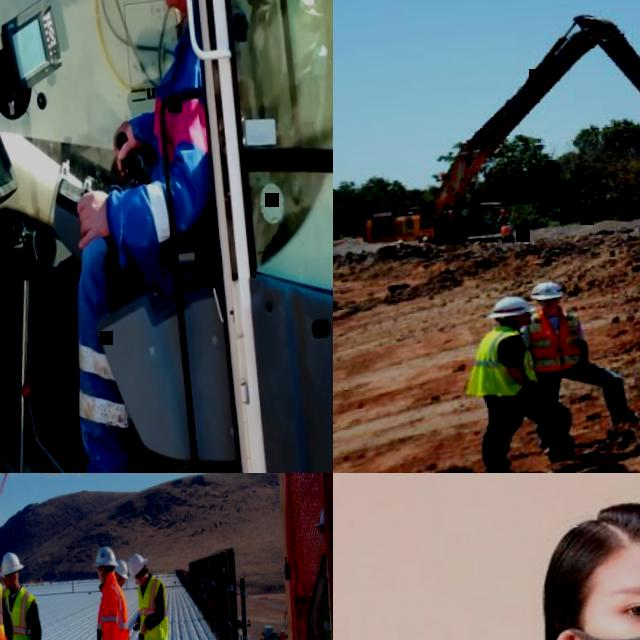helmet: (488, 292, 538, 318), (94, 542, 120, 570), (0, 548, 25, 577), (125, 550, 149, 578), (532, 280, 565, 300), (316, 495, 333, 531), (114, 556, 130, 582), (504, 203, 509, 206), (507, 220, 513, 222)
machinery: (0, 0, 333, 473), (356, 0, 640, 250)
no_helmet: (539, 486, 640, 587)
no_mask: (540, 300, 564, 310), (518, 315, 535, 325), (6, 577, 17, 590), (138, 577, 147, 586), (99, 570, 106, 580), (120, 578, 127, 586)
person: (46, 0, 238, 473), (433, 481, 640, 640), (333, 473, 528, 640), (461, 290, 581, 473), (519, 272, 640, 446), (294, 494, 333, 640), (0, 546, 54, 640), (123, 547, 177, 640), (90, 543, 139, 640), (114, 558, 140, 640), (498, 202, 513, 224), (502, 220, 517, 242)
vest: (140, 42, 216, 255), (463, 320, 543, 400), (528, 310, 586, 372), (300, 545, 333, 640), (93, 570, 132, 640), (4, 582, 41, 640), (137, 576, 170, 640), (0, 576, 13, 634), (502, 224, 514, 234), (502, 206, 512, 215)
